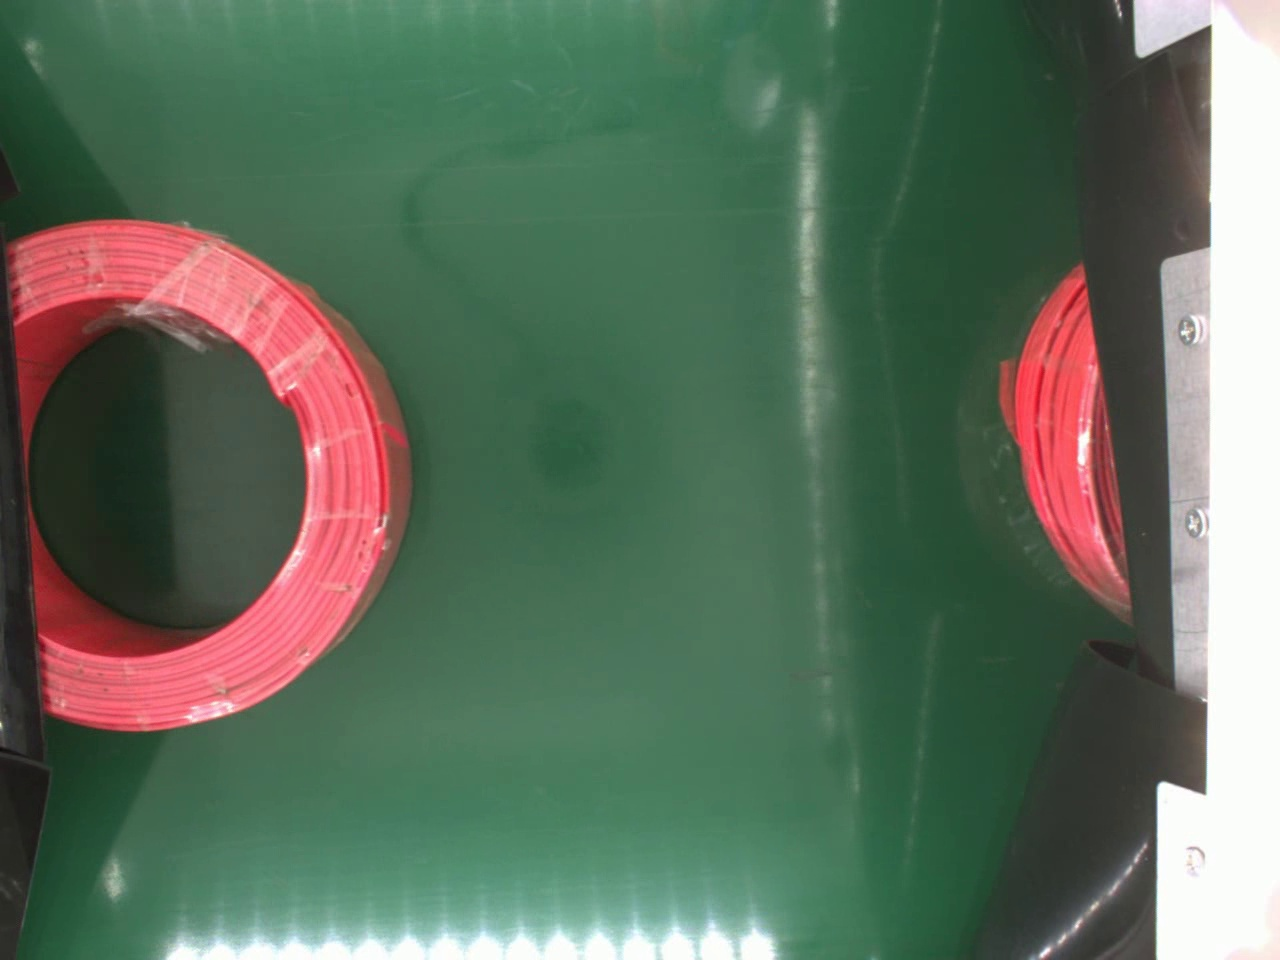red: (0, 213, 414, 734)
